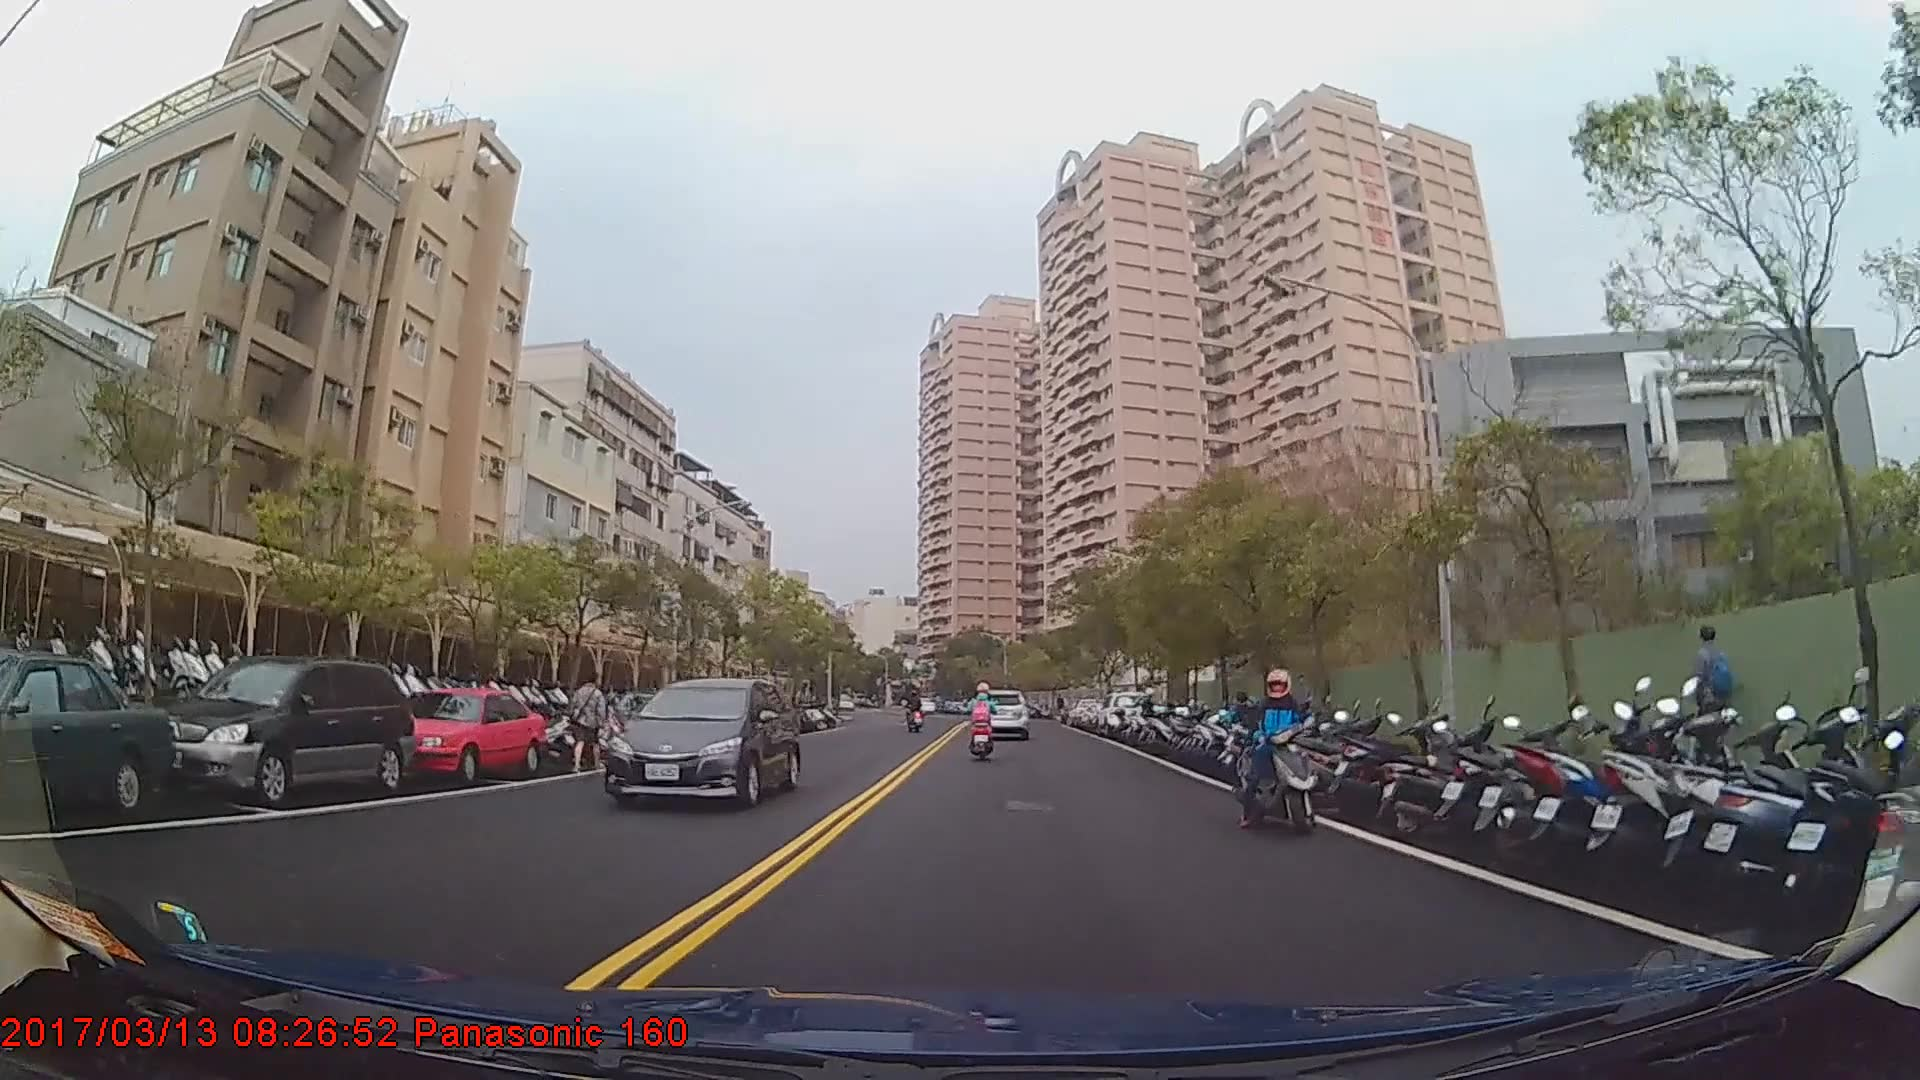pedestrian: (1678, 622, 1740, 798), (566, 672, 612, 782)
rider: (1238, 665, 1322, 834), (964, 681, 997, 754), (905, 687, 925, 726)
vehicle: (145, 648, 413, 800), (1, 647, 175, 821), (600, 669, 798, 805), (397, 687, 546, 782), (1091, 687, 1155, 736), (974, 684, 1028, 735)
